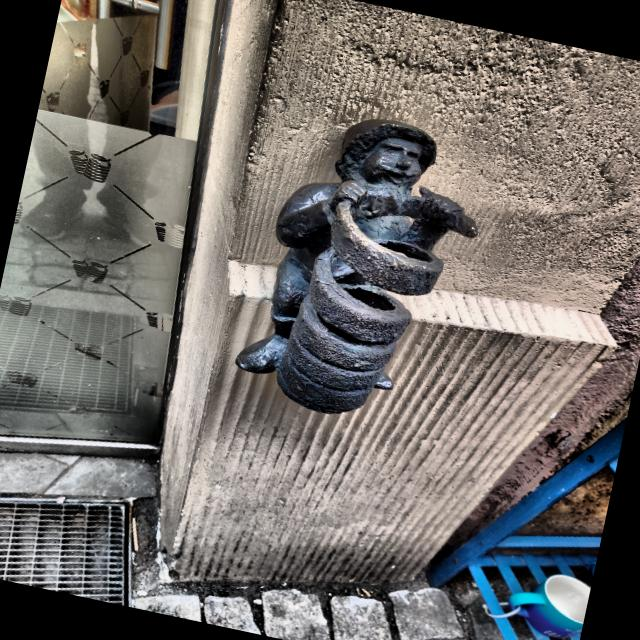Czimnejek: (235, 119, 477, 413)
